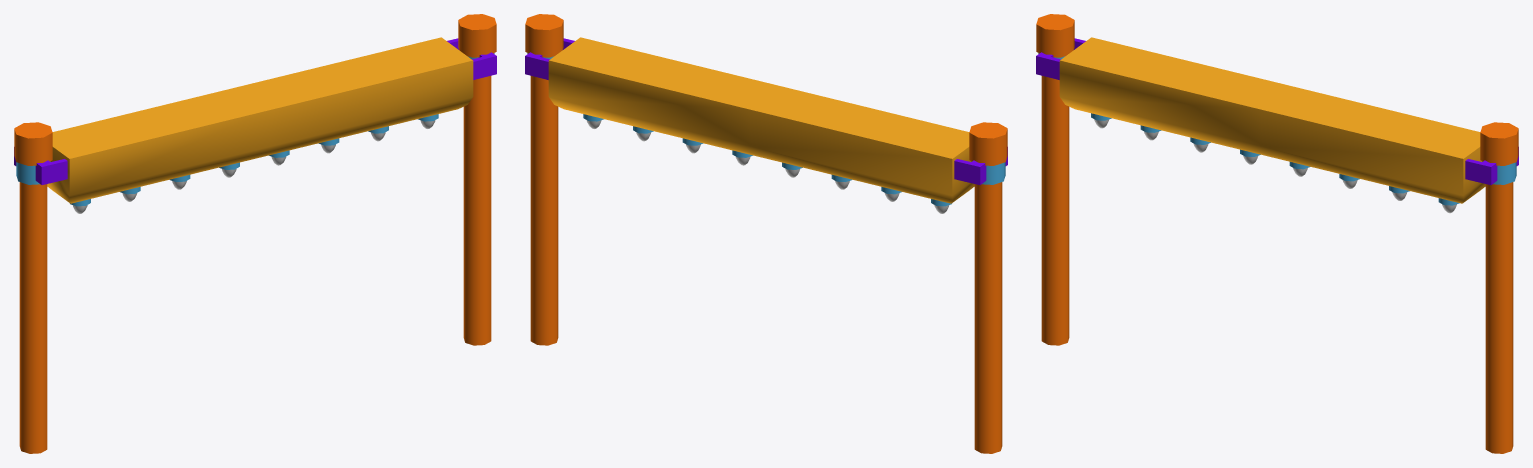
File: Wide_Crasher_01.fbx
3 views of the same model, side by side, from view 1: azimuth 30°, elevation 25°; view 2: azimuth 150°, elevation 25°; view 3: azimuth 330°, elevation 25° (orthographic).
Visible parts, largest first — view 1: Obstacle_Wide_Crasher_01_Holder, Obstacle_Wide_Crasher_01; view 2: Obstacle_Wide_Crasher_01_Holder, Obstacle_Wide_Crasher_01; view 3: Obstacle_Wide_Crasher_01_Holder, Obstacle_Wide_Crasher_01.
Part boxes in pixels (box(x1,y1,x2,y2)): Obstacle_Wide_Crasher_01_Holder: box(14, 37, 496, 213); Obstacle_Wide_Crasher_01: box(14, 14, 496, 453); Obstacle_Wide_Crasher_01_Holder: box(525, 37, 1007, 213); Obstacle_Wide_Crasher_01: box(525, 14, 1007, 453); Obstacle_Wide_Crasher_01_Holder: box(1036, 37, 1518, 213); Obstacle_Wide_Crasher_01: box(1036, 14, 1518, 453).
Size of the model in its own units: 470 by 298 by 53.89.
Materials: 1 (1 with a texture image).
